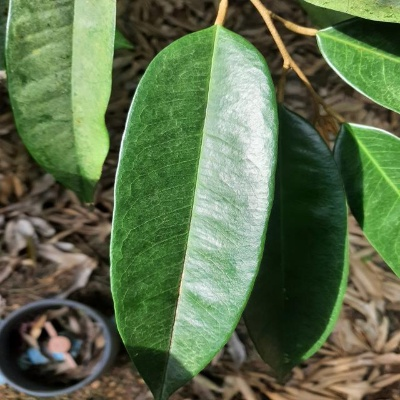Leaf_Healthy: (107, 22, 281, 399)
